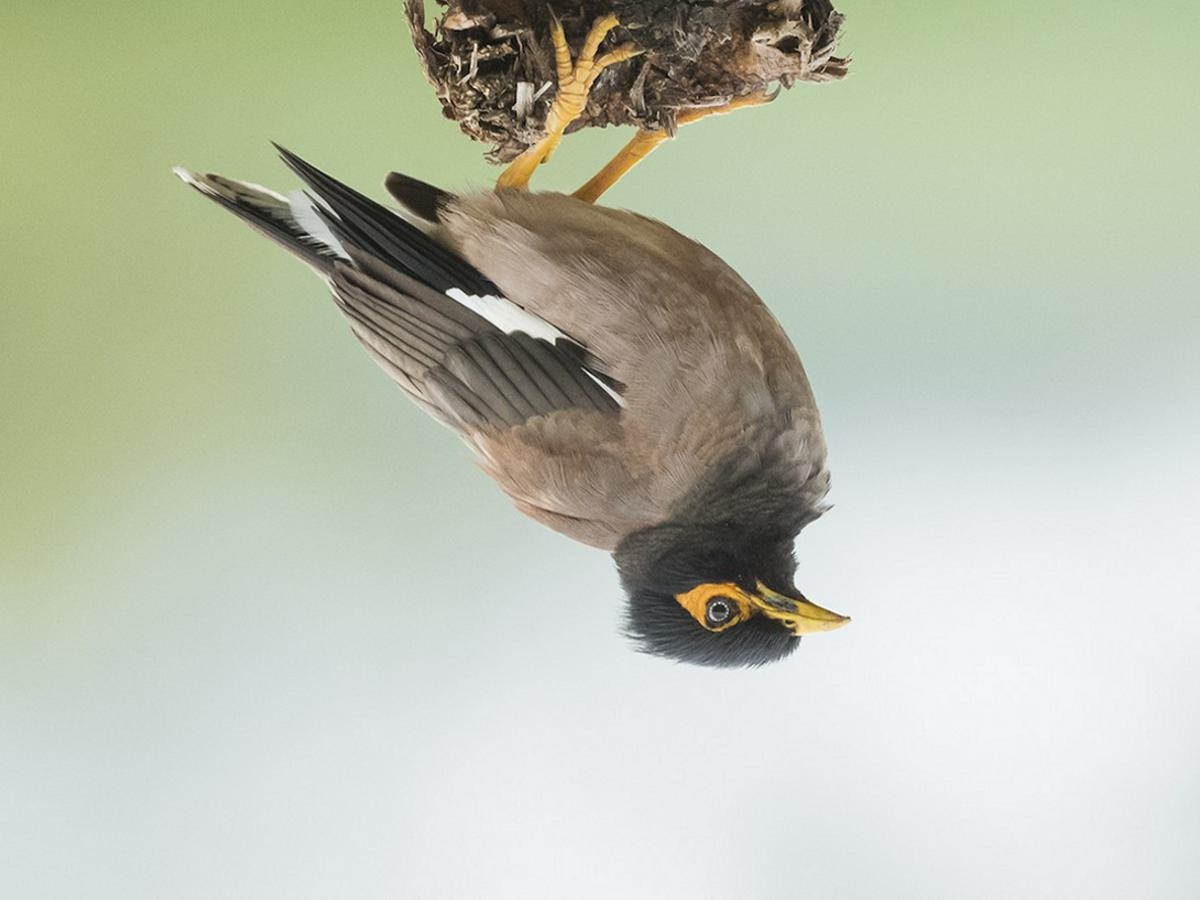myna: (291, 36, 926, 711)
